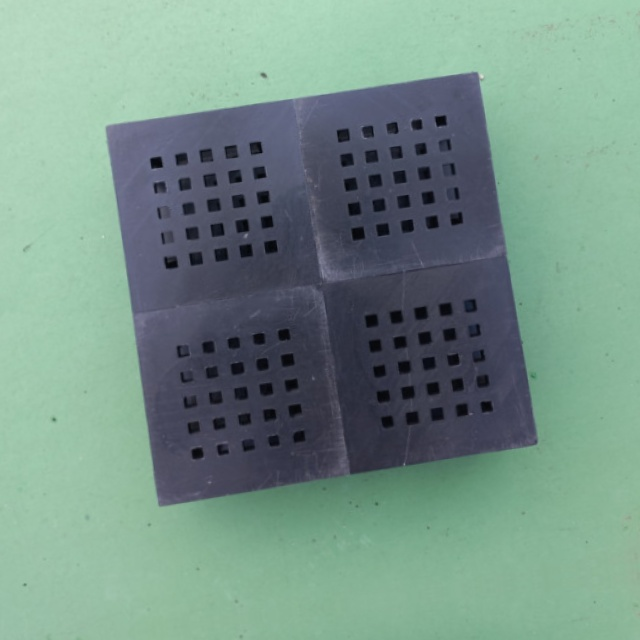pallet: (87, 62, 541, 508)
